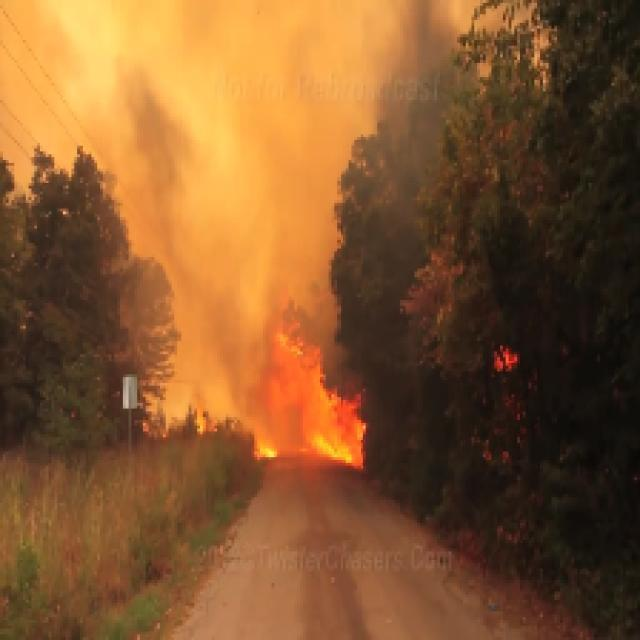Fire: (248, 323, 378, 468)
Smoke: (120, 94, 269, 320)
